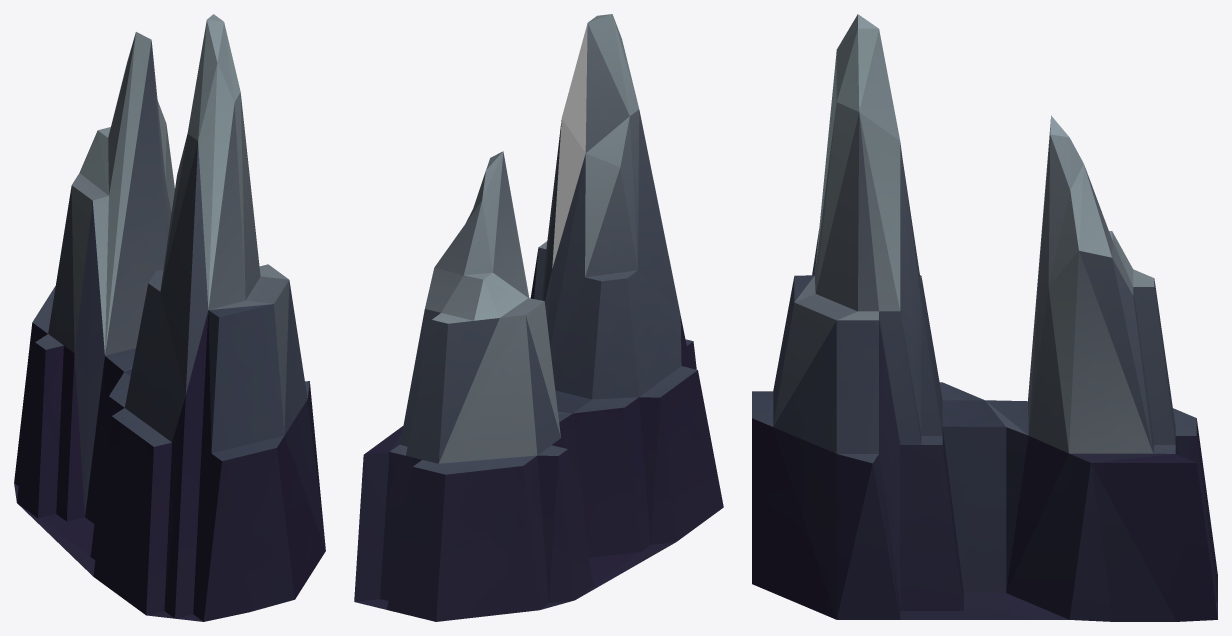
File: Terrain_Mountains02.fbx
3 renders of one model, left to right at view 1: azimuth 30°, elevation 25°; view 2: azimuth 150°, elevation 25°; view 3: azimuth 270°, elevation 25°, orthographic. The views are drawn at different scales.
Parts seen in each view (by area): view 1: Plane.002; view 2: Plane.002; view 3: Plane.002.
Part boxes in pixels (x1,y1,x2,y2): Plane.002: [14, 14, 325, 621]; Plane.002: [354, 14, 723, 621]; Plane.002: [752, 14, 1217, 621].
Bounding box in the file's own units: 6284 × 16423 × 12457.
